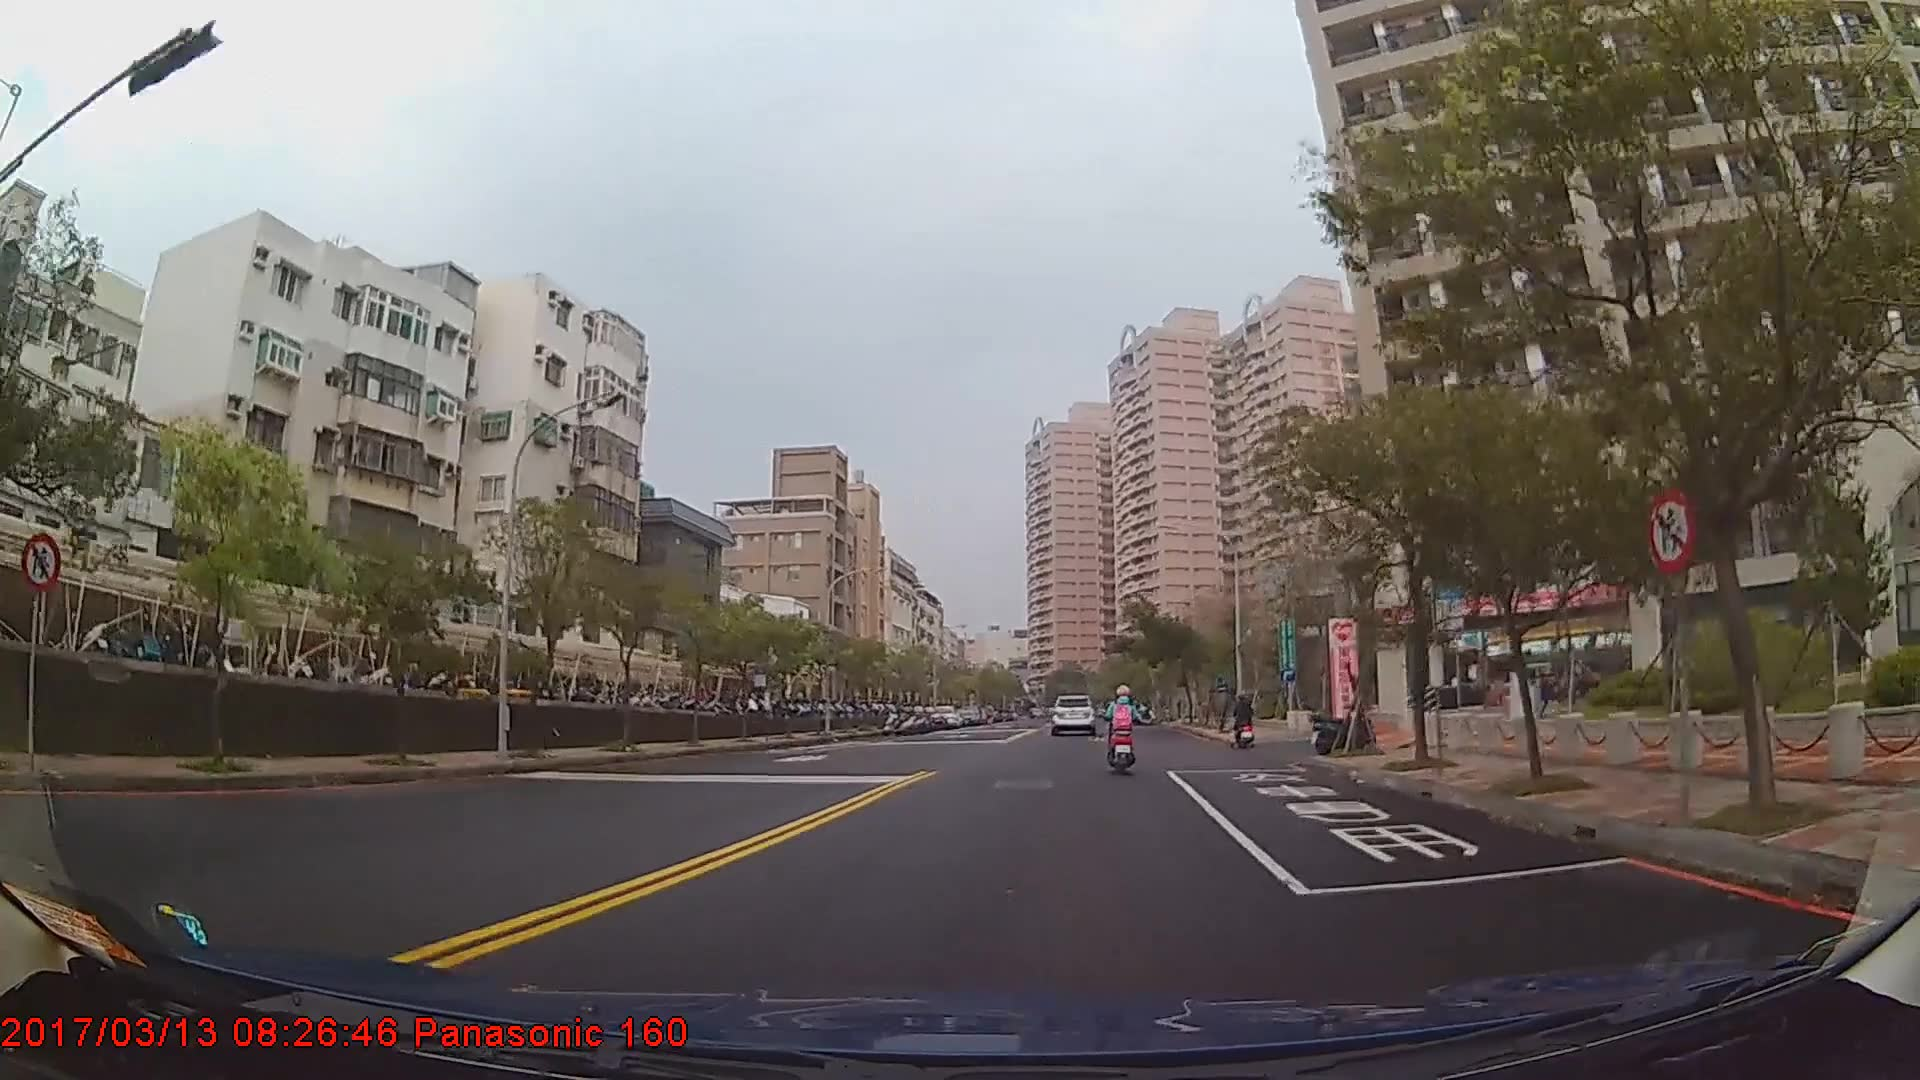rider: (1104, 678, 1148, 762), (1233, 692, 1256, 747)
vehicle: (1049, 692, 1096, 735)
